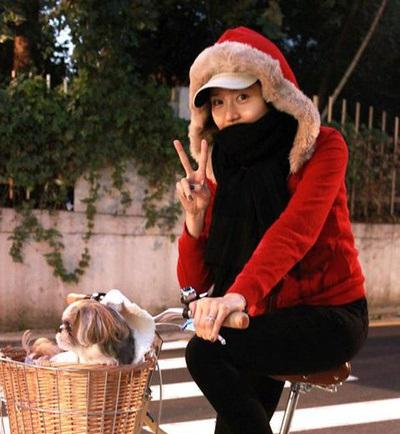WRONG: (205, 86, 274, 152)
